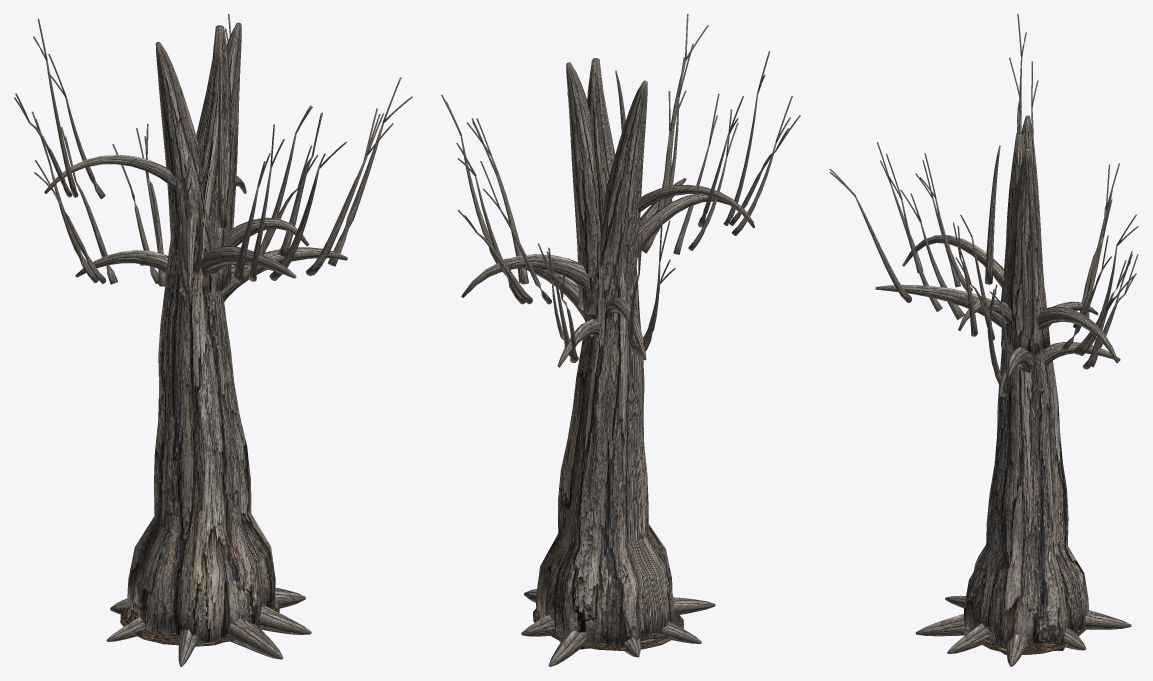
Rendered from lightning-split-v01.glb.
The picture shows the model from 3 angles, left to right: view 1: azimuth 30°, elevation 25°; view 2: azimuth 150°, elevation 25°; view 3: azimuth 270°, elevation 25°; orthographic projection. The views are drawn at different scales.
Parts seen in each view (by area): view 1: deeply furrowed winding trunk, lightning split twin leader, lightning split twin leader.001, massive gnarled bough.006, massive gnarled bough.004, radiating buttress root.006, exposed pale broken heartwood, massive gnarled bough, massive gnarled bough.003, subtle root and soil mound, massive gnarled bough.007, radiating buttress root.007 (+7 smaller); view 2: deeply furrowed winding trunk, lightning split twin leader, lightning split twin leader.001, massive gnarled bough.001, massive gnarled bough.005, massive gnarled bough.004, subtle root and soil mound, radiating buttress root.002, massive gnarled bough, massive gnarled bough.003, massive gnarled bough.002; view 3: deeply furrowed winding trunk, lightning split twin leader.001, massive gnarled bough.006, massive gnarled bough.001, massive gnarled bough.005, exposed pale broken heartwood, radiating buttress root.006, lightning split twin leader, massive gnarled bough, radiating buttress root.002, subtle root and soil mound, radiating buttress root.007 (+5 smaller).
Part boxes in pixels (<box>): deeply furrowed winding trunk: <box>127,25,275,646</box>; lightning split twin leader: <box>155,42,221,294</box>; lightning split twin leader.001: <box>202,22,241,291</box>; massive gnarled bough.006: <box>200,246,296,278</box>; massive gnarled bough.004: <box>44,154,175,193</box>; radiating buttress root.006: <box>228,617,283,659</box>; exposed pale broken heartwood: <box>218,55,226,227</box>; massive gnarled bough: <box>219,247,347,301</box>; massive gnarled bough.003: <box>75,250,167,277</box>; subtle root and soil mound: <box>120,603,279,645</box>; massive gnarled bough.007: <box>225,217,309,246</box>; radiating buttress root.007: <box>260,604,311,634</box>; deeply furrowed winding trunk: <box>536,58,674,650</box>; lightning split twin leader: <box>587,80,647,319</box>; lightning split twin leader.001: <box>566,62,611,314</box>; massive gnarled bough.001: <box>461,254,589,297</box>; massive gnarled bough.005: <box>637,194,754,254</box>; massive gnarled bough.004: <box>636,184,754,224</box>; subtle root and soil mound: <box>533,608,683,650</box>; radiating buttress root.002: <box>548,630,587,666</box>; massive gnarled bough: <box>503,258,586,320</box>; massive gnarled bough.003: <box>607,296,646,360</box>; massive gnarled bough.002: <box>557,319,600,367</box>; deeply furrowed winding trunk: <box>964,133,1088,654</box>; lightning split twin leader.001: <box>1001,148,1050,355</box>; massive gnarled bough.006: <box>875,284,1002,327</box>; massive gnarled bough.001: <box>1037,307,1118,363</box>; massive gnarled bough.005: <box>902,235,1003,287</box>; exposed pale broken heartwood: <box>984,145,1000,284</box>; radiating buttress root.006: <box>915,614,963,636</box>; lightning split twin leader: <box>1001,115,1050,343</box>; massive gnarled bough: <box>998,346,1033,396</box>; radiating buttress root.002: <box>1084,610,1131,629</box>; subtle root and soil mound: <box>980,629,1082,654</box>; radiating buttress root.007: <box>947,623,990,653</box>.
Size of the model in its own units: 6.66 by 10.72 by 5.44.
Materials: 3 (3 with a texture image).
